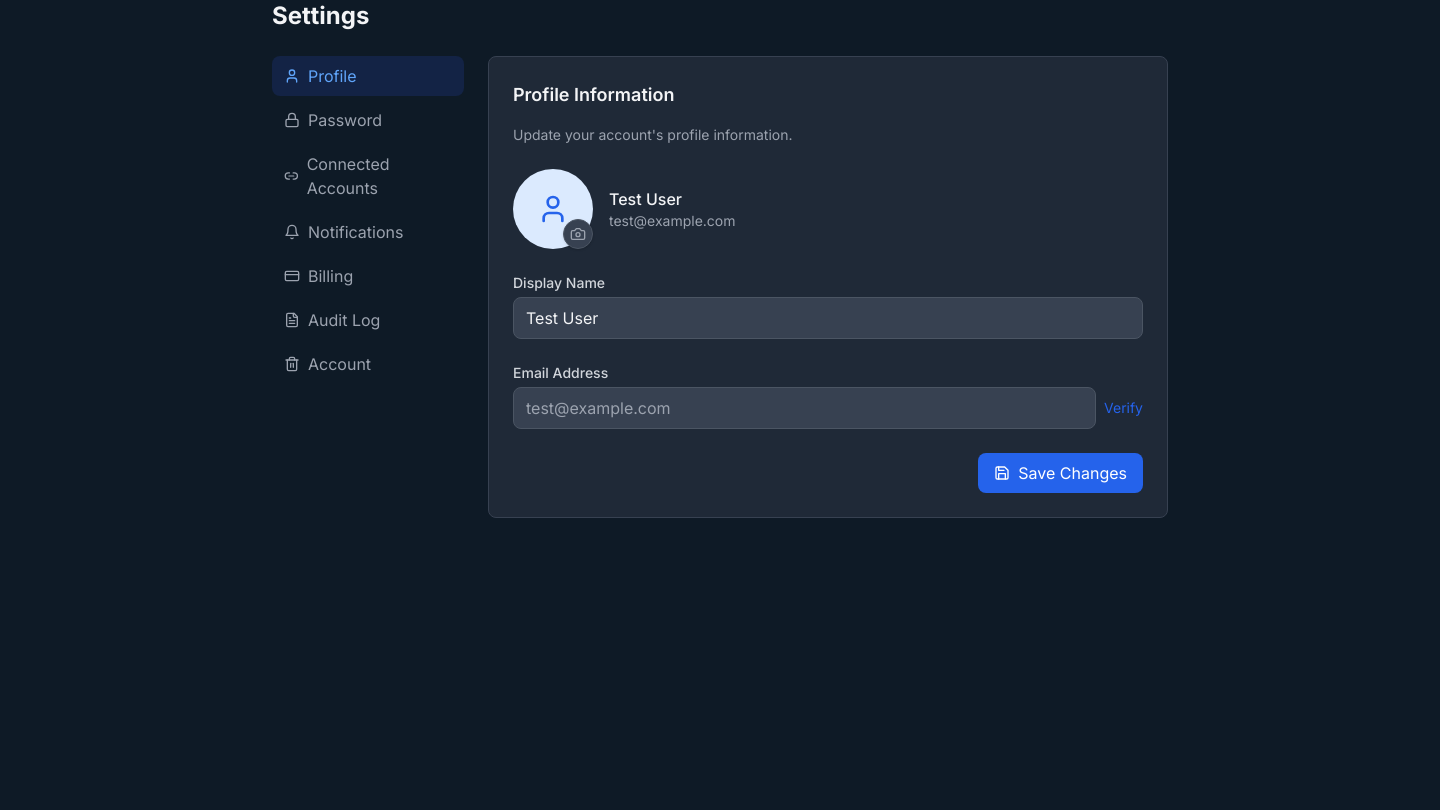
Test: SettingsPage › requires confirmation text for deletion
// Look for account tab - use exact name
Step 1. Click the button "Account" → {"x": 368, "y": 364}, box [272,344,464,384]
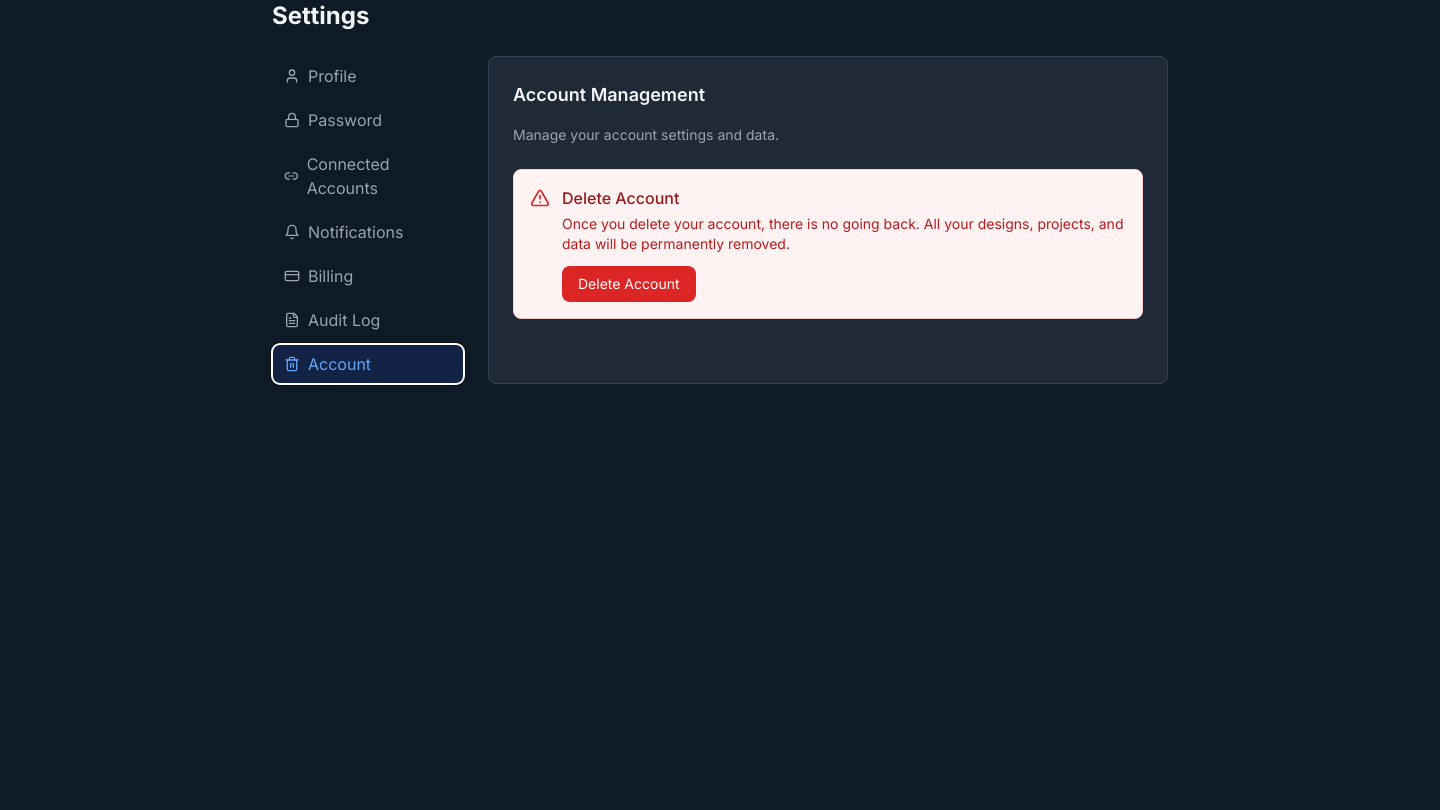
Step 2. Click the button "Delete Account" → {"x": 629, "y": 284}, box [562,266,696,302]
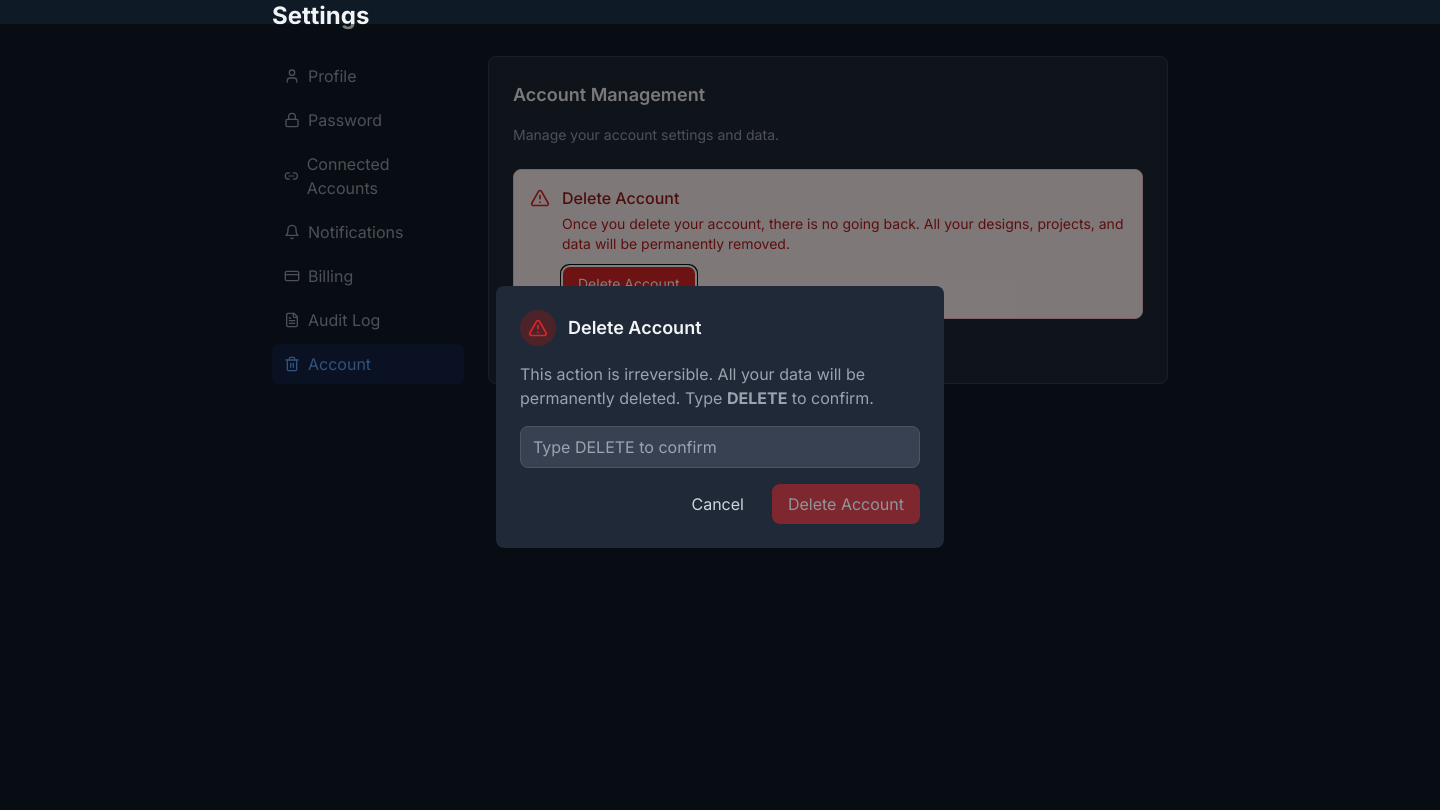
Now the field with placeholder "Type DELETE to confirm" is shown, box [520,426,920,468]
